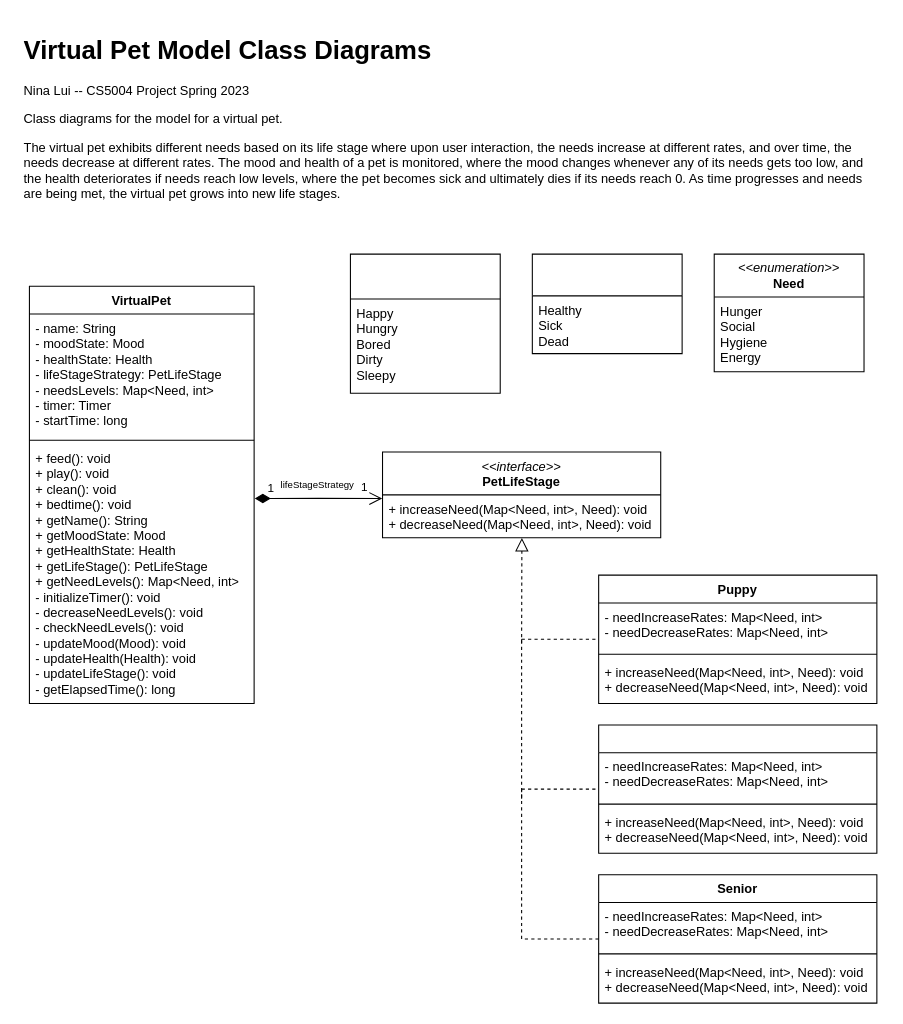
Some shapes in this 903 by 1024 pixel diagram are drawn without their labels. Here are the shapes that lost their labels. From the top down, the box of each, then its label:
(349, 253, 500, 393): <<enumeration>> Mood
(531, 253, 682, 354): <<enumeration>> Health
(598, 724, 877, 853): Adult
